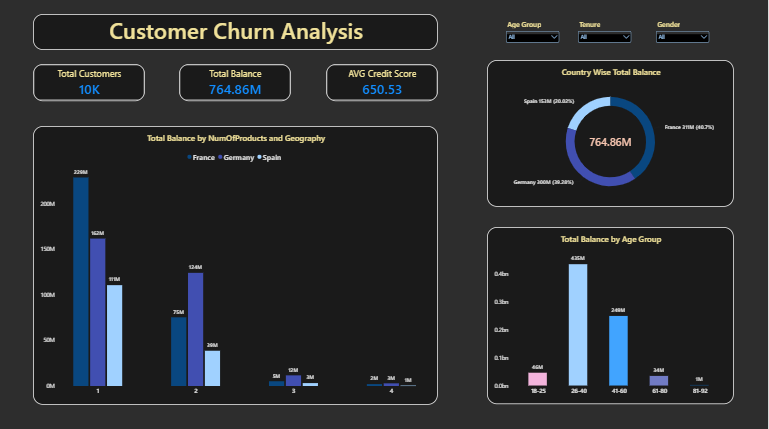

The dashboard page shown, as its layout file describes it:
{"tool":"powerbi","page":{"name":"Page 1","canvas":[1920,1080],"ordinal":0},"visuals":[{"type":"donutChart","title":"Country Wise Total Balance","fields":{"Category":["Customer-Churn-Records.Geography"],"Y":["Sum(Customer-Churn-Records.Balance)"]},"box":[1218.3,151.7,616.7,366.7],"z":0},{"type":"slicer","fields":{"Values":["Customer-Churn-Records.Age Group"]},"box":[1260,50,143.3,63.3],"z":1000},{"type":"cardVisual","fields":{"Data":["Customer-Churn-Records.AVG Credit Score"]},"box":[810,163.3,216.7,93.3],"z":2000},{"type":"cardVisual","fields":{"Data":["Customer-Churn-Records.Total Balance"]},"box":[480,163.3,216.7,93.3],"z":3000},{"type":"textbox","title":"Customer Churn Analysis","box":[81.7,36.7,1011.7,90],"z":4000},{"type":"slicer","fields":{"Values":["Customer-Churn-Records.Tenure"]},"box":[1440,50,143.3,63.3],"z":5001},{"type":"cardVisual","fields":{"Data":["Customer-Churn-Records.Total Customers"]},"box":[145,163.3,216.7,93.3],"z":5002},{"type":"slicer","fields":{"Values":["Customer-Churn-Records.Gender"]},"box":[1635,50,143.3,63.3],"z":5004},{"type":"columnChart","fields":{"Category":["Customer-Churn-Records.Age Group"],"Y":["Customer-Churn-Records.Total Balance"]},"box":[1218.3,570,616.7,443.3],"z":5005},{"type":"lineClusteredColumnComboChart","fields":{"Category":["Customer-Churn-Records.NumOfProducts"],"Series":["Customer-Churn-Records.Geography"],"Y":["Customer-Churn-Records.Total Balance"]},"box":[81.7,316.7,1011.7,696.7],"z":5006}]}

Visuals, with their boxes in screenshot pixels (x1, y1, x2, y2), scaled from the page's 1920x1080 canvas onto the 769x429 screenshot:
"Country Wise Total Balance" donutChart: 488,60,735,206
slicer - Customer-Churn-Records.Age Group: 505,20,562,45
cardVisual - Customer-Churn-Records.AVG Credit Score: 324,65,411,102
cardVisual - Customer-Churn-Records.Total Balance: 192,65,279,102
"Customer Churn Analysis" textbox: 33,15,438,50
slicer - Customer-Churn-Records.Tenure: 577,20,634,45
cardVisual - Customer-Churn-Records.Total Customers: 58,65,145,102
slicer - Customer-Churn-Records.Gender: 655,20,712,45
columnChart - Customer-Churn-Records.Age Group x Customer-Churn-Records.Total Balance: 488,226,735,403
lineClusteredColumnComboChart - Customer-Churn-Records.NumOfProducts x Customer-Churn-Records.Geography: 33,126,438,403
